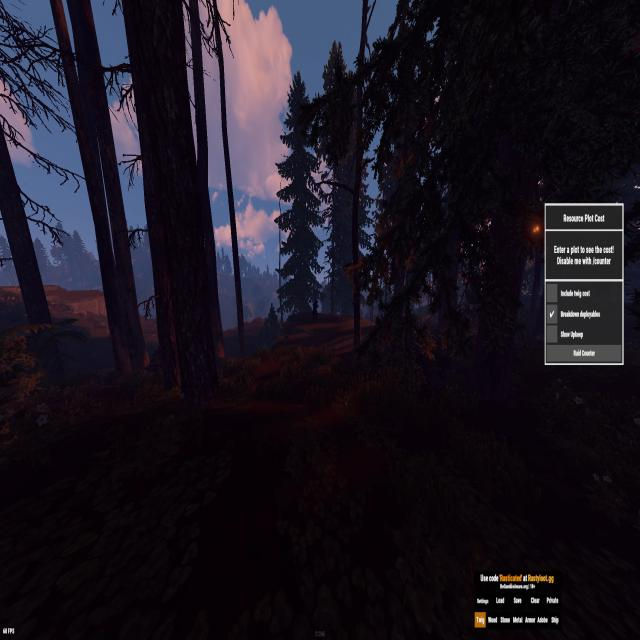Player: (311, 298, 319, 323)
